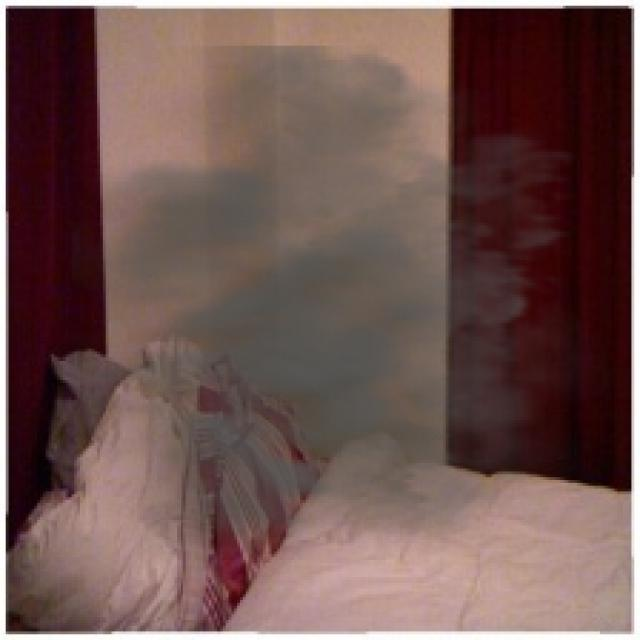Smoke: (71, 46, 628, 583)
